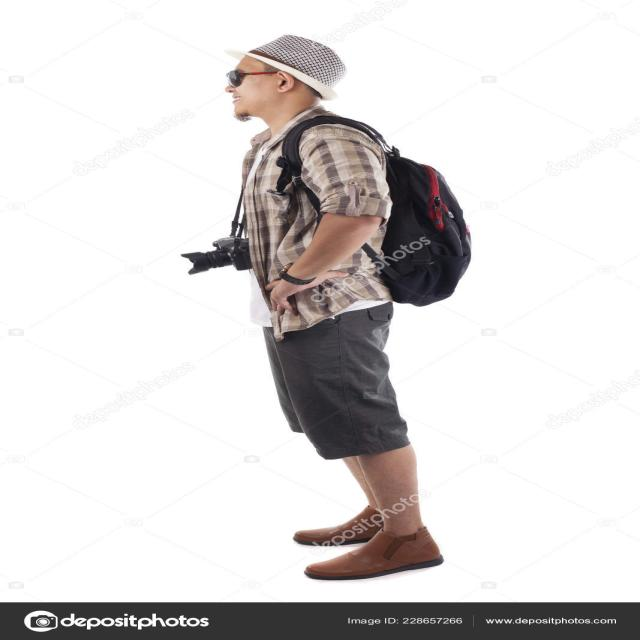hat: (220, 35, 344, 121)
